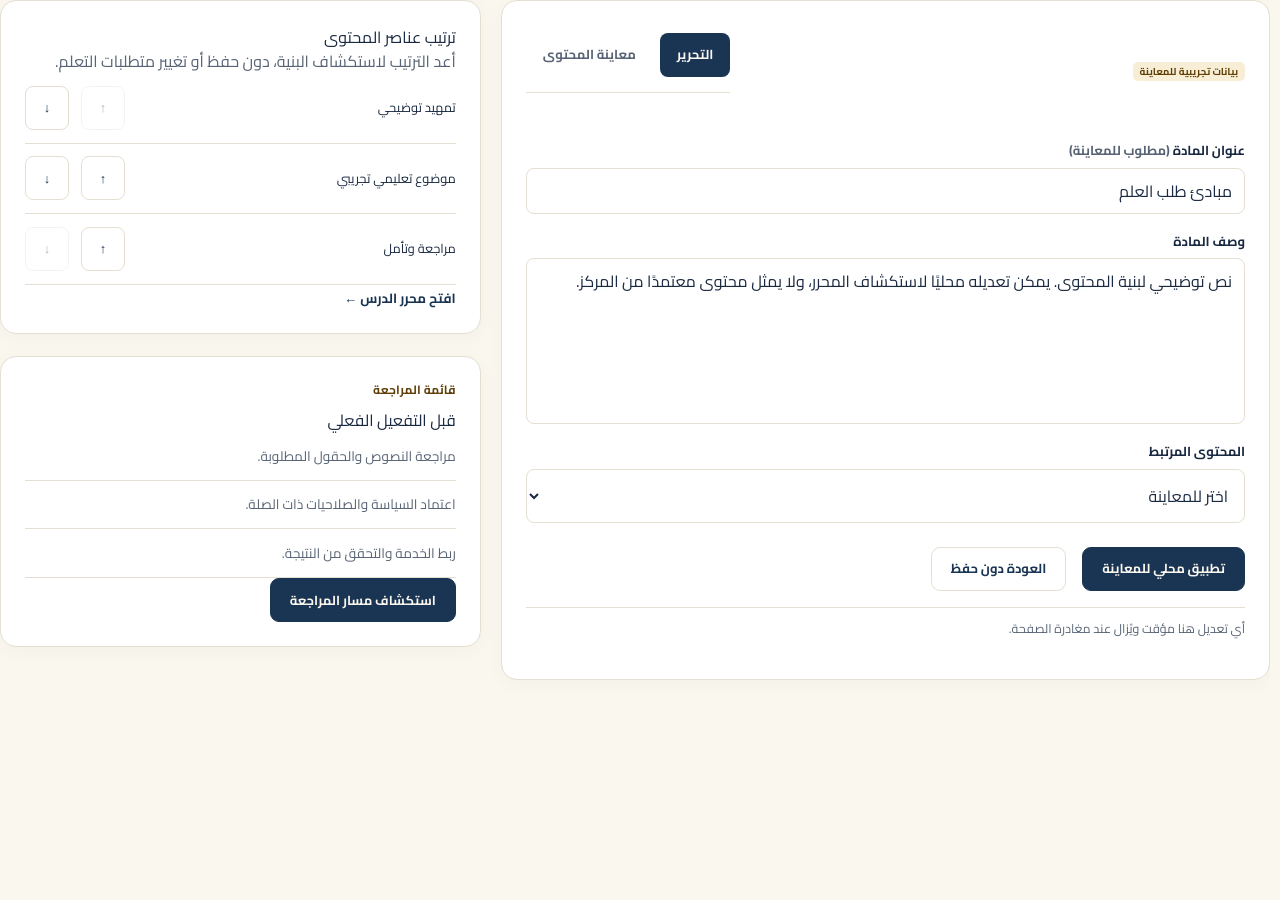
complete admin frontend previews › reorders content locally with accessible boundary controls
Expected: the button named "رفع تمهيد توضيحي" is disabled, 81,86 -> 125,130
Click the button named "خفض تمهيد توضيحي" at (47, 108), box 25,86 -> 69,130
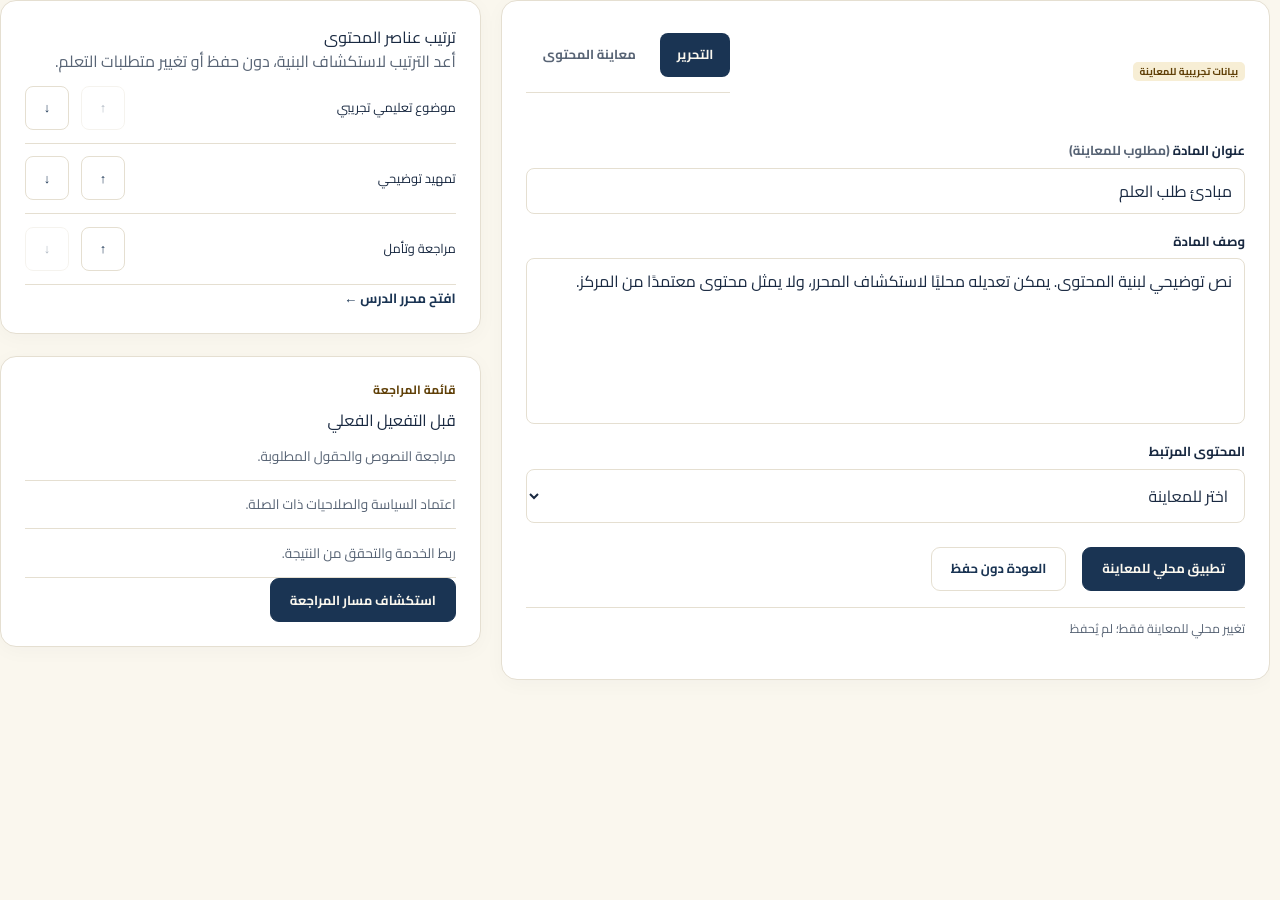
Expected: the list item "موضوع تعليمي تجريبي ↑ ↓" is shown, 25,73 -> 456,144
Expected: the message reads "تغيير محلي للمعاينة فقط؛ لم يُحفظ", 1070,617 -> 1245,640
